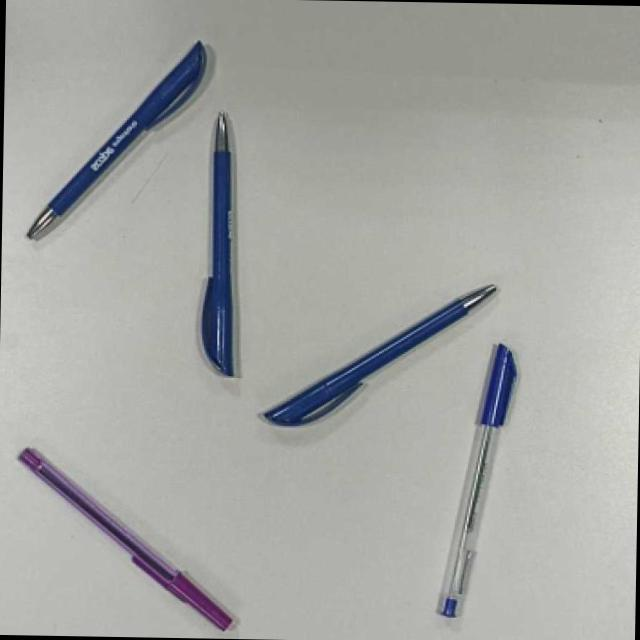caneta: (22, 40, 223, 252), (13, 445, 235, 636), (263, 280, 507, 442), (435, 342, 523, 619), (199, 111, 232, 377)
